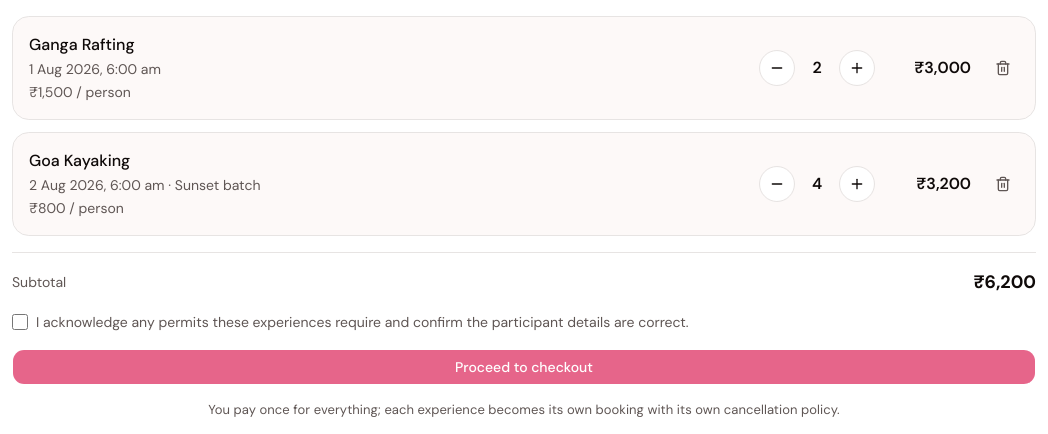
Test: CartView › removing a line drops it and recomputes the subtotal
The image size is (1048, 434).
Click the button named "Remove Ganga Rafting".
click(1003, 68)  # box x1=987 y1=52 x2=1019 y2=84
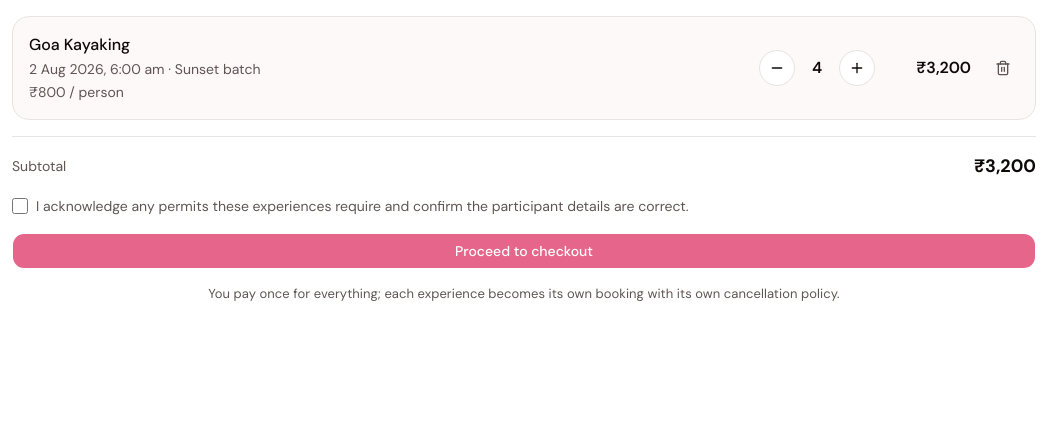
Check: the link "Ganga Rafting" is gone
Check: the text with test id "cart-subtotal" reads "₹3,200", box x1=974 y1=153 x2=1036 y2=180
